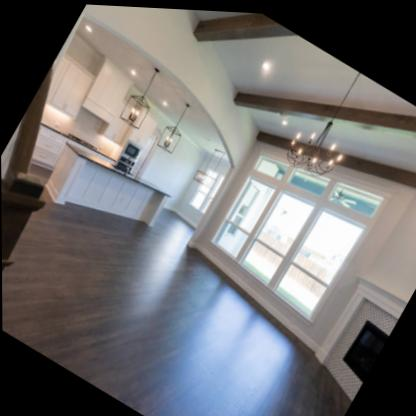Cabinet: (45, 53, 95, 118)
Window: (211, 151, 381, 312), (189, 164, 224, 212)
